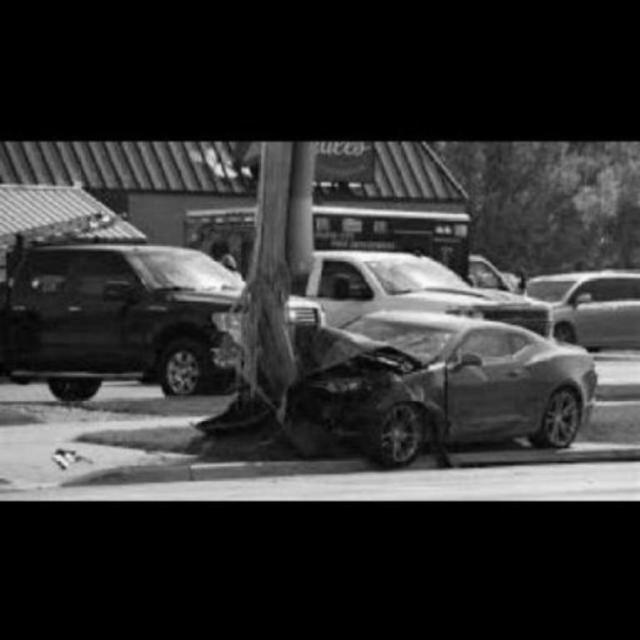accident: (189, 301, 595, 458)
vehicle: (2, 242, 245, 390), (522, 270, 640, 343)
